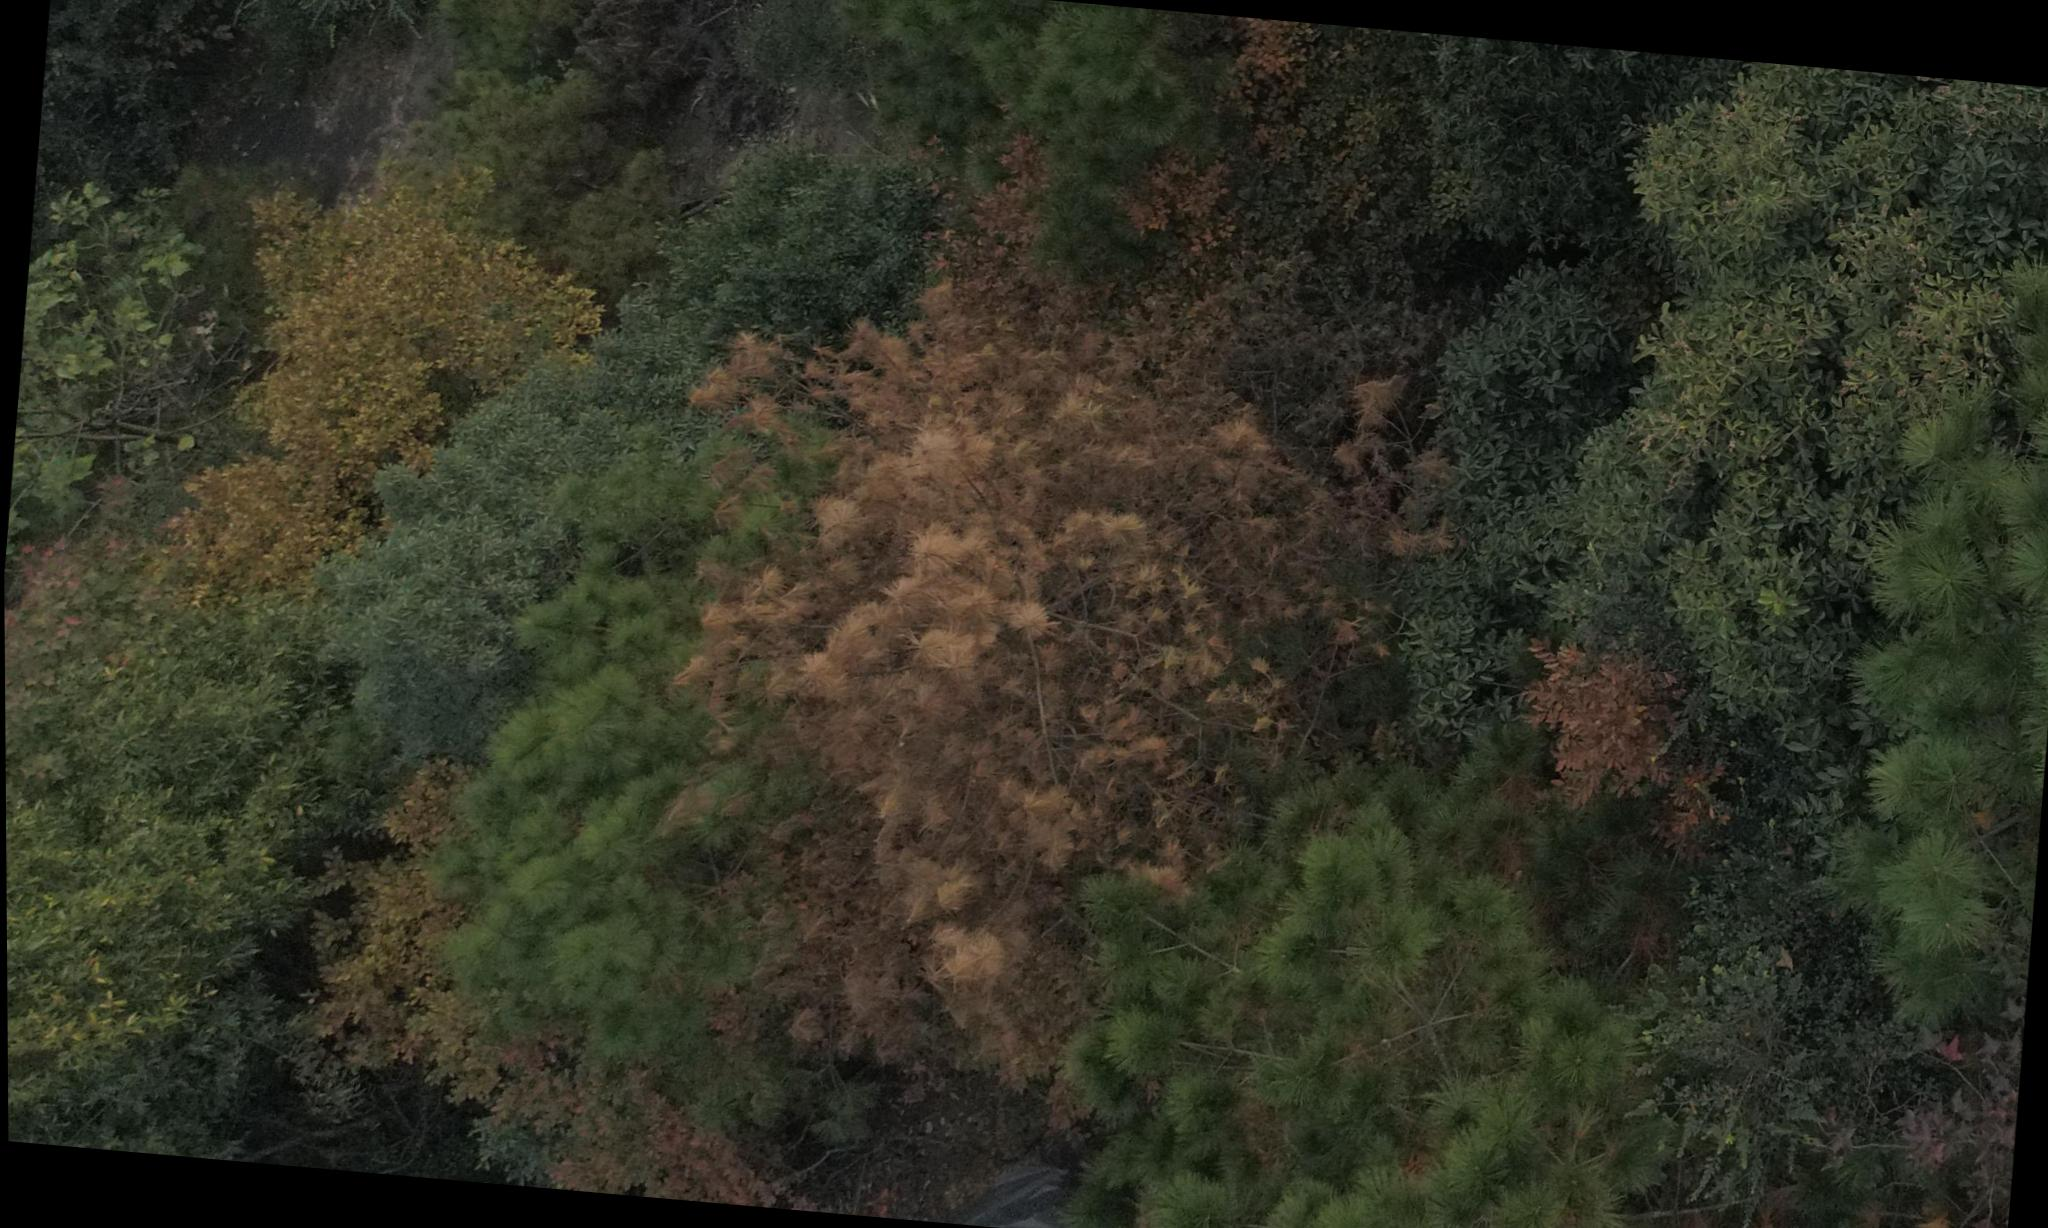heavy: (643, 244, 1416, 1111)
